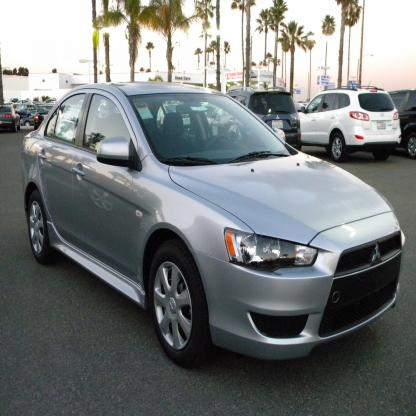Vehicle: (22, 82, 406, 365)
